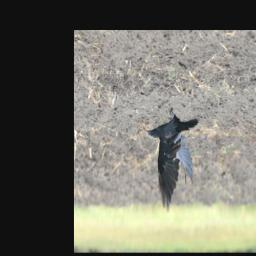Crow: (144, 106, 200, 214)
